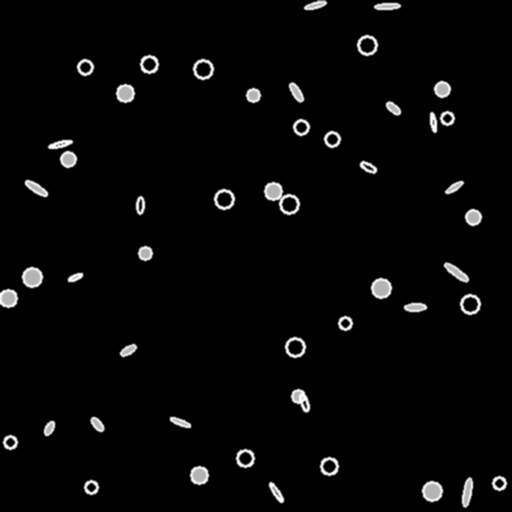pseudomonas: (442, 260, 470, 284), (24, 179, 48, 197), (287, 81, 305, 103), (268, 481, 284, 503), (461, 478, 473, 506), (89, 416, 105, 432), (385, 100, 401, 116), (119, 343, 137, 357), (445, 180, 463, 194), (359, 160, 377, 174), (298, 392, 310, 412), (170, 416, 190, 428), (48, 139, 72, 149), (42, 420, 56, 436), (304, 0, 326, 10), (67, 272, 83, 282), (374, 3, 400, 9), (429, 113, 437, 131), (136, 196, 144, 214), (404, 304, 426, 310)
synechocystis: (286, 338, 304, 356), (23, 268, 41, 286), (358, 36, 376, 54), (423, 482, 441, 500), (215, 190, 233, 208), (372, 279, 390, 297), (194, 60, 212, 78), (280, 195, 298, 213), (461, 295, 479, 313), (141, 56, 157, 72), (265, 183, 281, 199), (0, 290, 16, 306), (321, 458, 337, 474), (117, 85, 133, 101), (237, 450, 253, 466), (191, 467, 207, 483), (466, 210, 480, 224), (61, 152, 75, 166), (78, 60, 92, 74), (294, 120, 308, 134), (325, 132, 339, 146), (435, 82, 449, 96), (292, 390, 304, 402), (493, 477, 505, 489), (441, 112, 453, 124), (4, 436, 16, 448), (339, 317, 351, 329), (139, 247, 151, 259), (85, 481, 97, 493), (247, 89, 259, 101)
